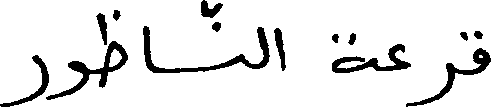ا: (273, 25, 283, 71), (143, 23, 150, 70)
ة: (330, 30, 372, 72)
ر: (0, 53, 48, 105), (408, 61, 454, 106)
ظ: (94, 8, 125, 88)
ع: (386, 42, 410, 79)
ق: (459, 28, 489, 74)
ل: (255, 24, 268, 69)
ن: (198, 19, 243, 72)
و: (46, 59, 88, 100)
